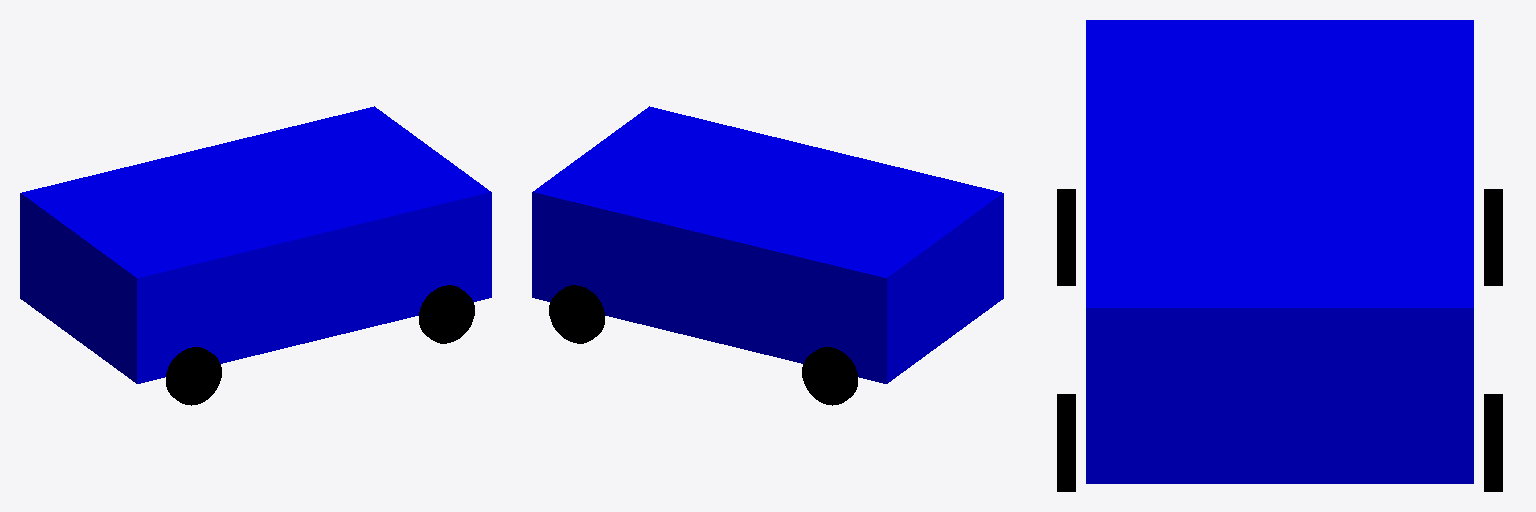
The robot description file, URDF, robot "hitomi":
<?xml version="1.0"?>
<robot name="hitomi">
    <link name="chassis">
        <inertial>
        	<mass value="1.0"/>
            <inertia ixx ="0.02" ixy="0.0" ixz="0.0" iyy="0.04" iyz="0.0" izz="0.05" />
       </inertial>
        <visual>
            <origin xyz= "0 0 0.1" />
            <geometry>
                <box size="0.7 0.4 0.2" />
            </geometry>
            <material name="blue">
               <color rgba="0 0 1 1"/>
            </material>
        </visual>
        <collision>
            <geometry>
                <box size="0.8 0.4 0.2" />                   
            </geometry>
        </collision>
    </link>
    <!-- wheels-->
    
    <link name = "fl_wheel">
        <inertial>
            <mass value="0.1" />
            <inertia ixx="0.001" ixy="0.0" ixz="0.0" iyy="0.001" iyz="0.0" izz="0.001" />
        </inertial>
        <visual>
            <origin xyz="0 0 0" rpy="1.5708 0 0 "/>
            <geometry>
                <cylinder radius="0.05" length="0.02" />
            </geometry>
            <material name="black">
               <color rgba="0 0 0 1"/>
            </material>
        </visual>
        <collision>
            <geometry>
                <cylinder radius="0.05" length="0.02" />
            </geometry>
        </collision>
    </link> 
    
    <link name = "fr_wheel">
        <inertial>
            <mass value="0.1" />
            <inertia ixx="0.001" ixy="0.0" ixz="0.0" iyy="0.001" iyz="0.0" izz="0.001" />
        </inertial>
        <visual>
            <origin xyz="0 0 0" rpy="1.5708 0 0 "/>
            <geometry>
                <cylinder radius="0.05" length="0.02" />
            </geometry>
            <material name="black">
               <color rgba="0 0 0 1"/>
            </material>
        </visual>
        <collision>
            <geometry>
                <cylinder radius="0.05" length="0.02" />
            </geometry>
        </collision>
    </link> 
    <!--"r_wheel"-->
    
    <link name = "rl_wheel">
        <inertial>
            <mass value="0.1" />
            <inertia ixx="0.001" ixy="0.0" ixz="0.0" iyy="0.001" iyz="0.0" izz="0.001" />
        </inertial>
        <visual>
            <origin xyz="0 0 0" rpy="1.5708 0 0 "/>
            <geometry>
                <cylinder radius="0.05" length="0.02" />
            </geometry>
            <material name="black">
               <color rgba="0 0 0 1"/>
            </material>
        </visual>
        <collision>
            <geometry>
                <cylinder radius="0.05" length="0.02" />
            </geometry>
        </collision>
    </link> 
    
    <link name = "rr_wheel">
        <inertial>
            <mass value="0.1" />
            <inertia ixx="0.001" ixy="0.0" ixz="0.0" iyy="0.001" iyz="0.0" izz="0.001" />
        </inertial>
        <visual>
            <origin xyz="0 0 0" rpy="1.5708 0 0 "/>
            <geometry>
                <cylinder radius="0.05" length="0.02" />
            </geometry>
            <material name="black">
               <color rgba="0 0 0 1"/>
            </material>
        </visual>
        <collision>
            <geometry>
                <cylinder radius="0.05" length="0.02" />
            </geometry>
        </collision>
    </link> 
           
   <!-- wheel joints-->
   
    <joint name="fl_joint" type="continuous">
        <parent link="chassis" />
        <child link="fl_wheel" />
        <origin xyz="0.25 0.22 0"/>
        <axis xyz="0 1 0" />
    </joint>
    
    <joint name="fr_joint" type="continuous">
        <parent link="chassis" />
        <child link="fr_wheel" />
        <origin xyz="0.25 -0.22 0"/>
        <axis xyz="0 1 0" />
    </joint>
    
    <joint name="rl_joint" type="continuous">
        <parent link="chassis" />
        <child link="rl_wheel" />
        <origin xyz="-0.25 0.22 0"/>
        <axis xyz="0 1 0" />
    </joint>
    
    <joint name="rr_joint" type="continuous">
        <parent link="chassis" />
        <child link="rr_wheel" />
        <origin xyz="-0.25 -0.22 0"/>
        <axis xyz="0 1 0" />
    </joint>

<gazebo>
   <plugin name="gz::sim::systems::DiffDrive" filename="libgz-sim8-diff-drive-system.so">
    <ros>
      <remapping>cmd_vel:=/cmd_vel</remapping>
    </ros>

    <!-- Joints -->
    <left_joint>fl_joint</left_joint>
    <right_joint>fr_joint</right_joint>

    <!-- Wheel parameters -->
    <wheel_separation>0.4</wheel_separation>
    <wheel_radius>0.05</wheel_radius>  <!-- 0.1 diameter / 2 -->

    <!-- Frames -->
    <odom_frame>odom</odom_frame>
    <robot_base_frame>chassis</robot_base_frame>

    <!-- Odometry settings -->
    <publish_odom>true</publish_odom>
    <publish_tf>true</publish_tf>

    <!-- ROS topics -->
    <topic>/cmd_vel</topic>
    <odom_topic>odom</odom_topic>
  </plugin>
</gazebo>

 
</robot>

--- What the picture shows (computed from the rendered views, not written in the file) ---
The picture shows the robot from 3 angles, left to right: view 1: azimuth 30°, elevation 25°; view 2: azimuth 150°, elevation 25°; view 3: azimuth 270°, elevation 25°; orthographic projection.
Model hitomi with 5 links and 4 joints (4 continuous), rooted at chassis, posed every joint at zero.
Visible links, largest first — view 1: chassis, rr_wheel, fr_wheel; view 2: chassis, rl_wheel, fl_wheel; view 3: chassis, fl_wheel, fr_wheel, rl_wheel, rr_wheel.
Link boxes in pixels (x1,y1,x2,y2): chassis: [20, 106, 491, 383]; rr_wheel: [166, 347, 221, 405]; fr_wheel: [419, 285, 474, 343]; chassis: [532, 106, 1003, 383]; rl_wheel: [802, 347, 857, 405]; fl_wheel: [549, 285, 604, 343]; chassis: [1086, 20, 1473, 483]; fl_wheel: [1484, 394, 1502, 491]; fr_wheel: [1057, 394, 1075, 491]; rl_wheel: [1484, 189, 1502, 285]; rr_wheel: [1057, 189, 1075, 285].
Size in the robot's own frame: 0.7 by 0.46 by 0.25 metres.
Geometry: primitives only (box / cylinder / sphere), no mesh files.